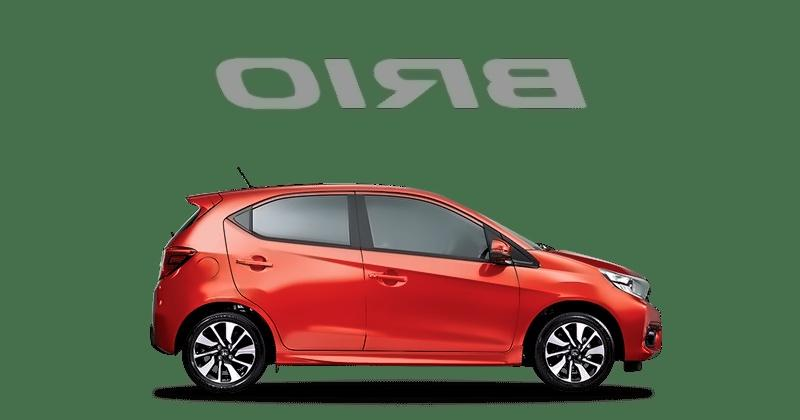Car hood: (549, 246, 650, 284)
Driver-s door - -F-R-: (356, 188, 519, 356)
Fender - -F-R-: (511, 246, 613, 363)
Fender - -R-R-: (176, 241, 284, 357)
Front bumper: (604, 287, 669, 371)
Headlight - -R-: (595, 264, 654, 305)
Passenger-s door - -R-R-: (223, 188, 365, 355)
Rear bumper: (144, 277, 189, 363)
Rear light - -R-: (154, 240, 202, 283)
Side bumper - -R-: (272, 343, 528, 369)
Side mirror - -R-: (482, 232, 519, 266)
